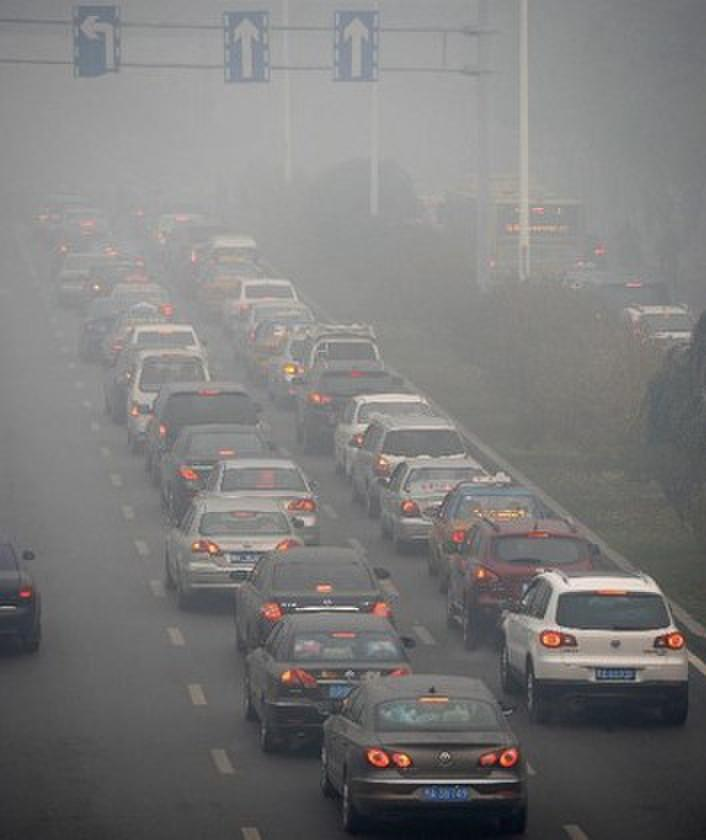bus: (451, 178, 585, 308)
car: (316, 669, 527, 835), (498, 564, 692, 728), (244, 611, 419, 758), (445, 515, 600, 649), (231, 546, 394, 660), (164, 495, 310, 615), (420, 475, 551, 591), (345, 415, 476, 520), (373, 456, 501, 555), (138, 380, 268, 475), (156, 421, 277, 521), (197, 455, 319, 548), (292, 361, 411, 453), (119, 348, 219, 455), (329, 390, 443, 481), (106, 341, 209, 428), (302, 326, 393, 415), (114, 324, 216, 397), (267, 331, 363, 408), (583, 268, 678, 343), (80, 295, 171, 369), (218, 274, 307, 346), (247, 315, 331, 389), (617, 301, 702, 374), (232, 302, 321, 367), (1, 535, 46, 652), (195, 256, 275, 321), (193, 233, 264, 294), (56, 251, 122, 309), (550, 258, 626, 306), (109, 274, 176, 328), (81, 261, 150, 311)
